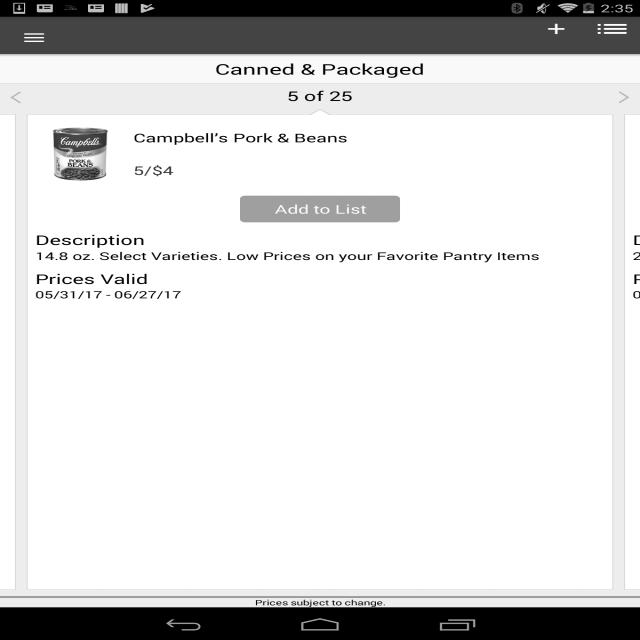Button: (240, 196, 400, 222), (293, 196, 347, 222)
ImageButton: (0, 19, 60, 57), (584, 12, 640, 46), (529, 12, 584, 46), (240, 196, 293, 222), (347, 196, 400, 222), (0, 88, 32, 108), (608, 88, 640, 108)
ImageView: (37, 127, 123, 181), (634, 127, 640, 180), (309, 108, 331, 116)
TextView: (35, 288, 605, 308), (35, 248, 540, 270), (35, 270, 605, 288), (133, 129, 605, 146), (133, 146, 605, 162), (133, 162, 605, 178), (0, 598, 640, 608), (215, 59, 424, 79), (35, 230, 145, 248), (287, 86, 352, 105), (629, 59, 640, 79), (632, 248, 640, 269), (632, 287, 640, 308), (0, 287, 7, 308), (632, 230, 640, 248), (632, 269, 640, 287), (0, 269, 7, 287), (0, 145, 7, 162), (0, 161, 7, 178), (0, 129, 7, 145)
